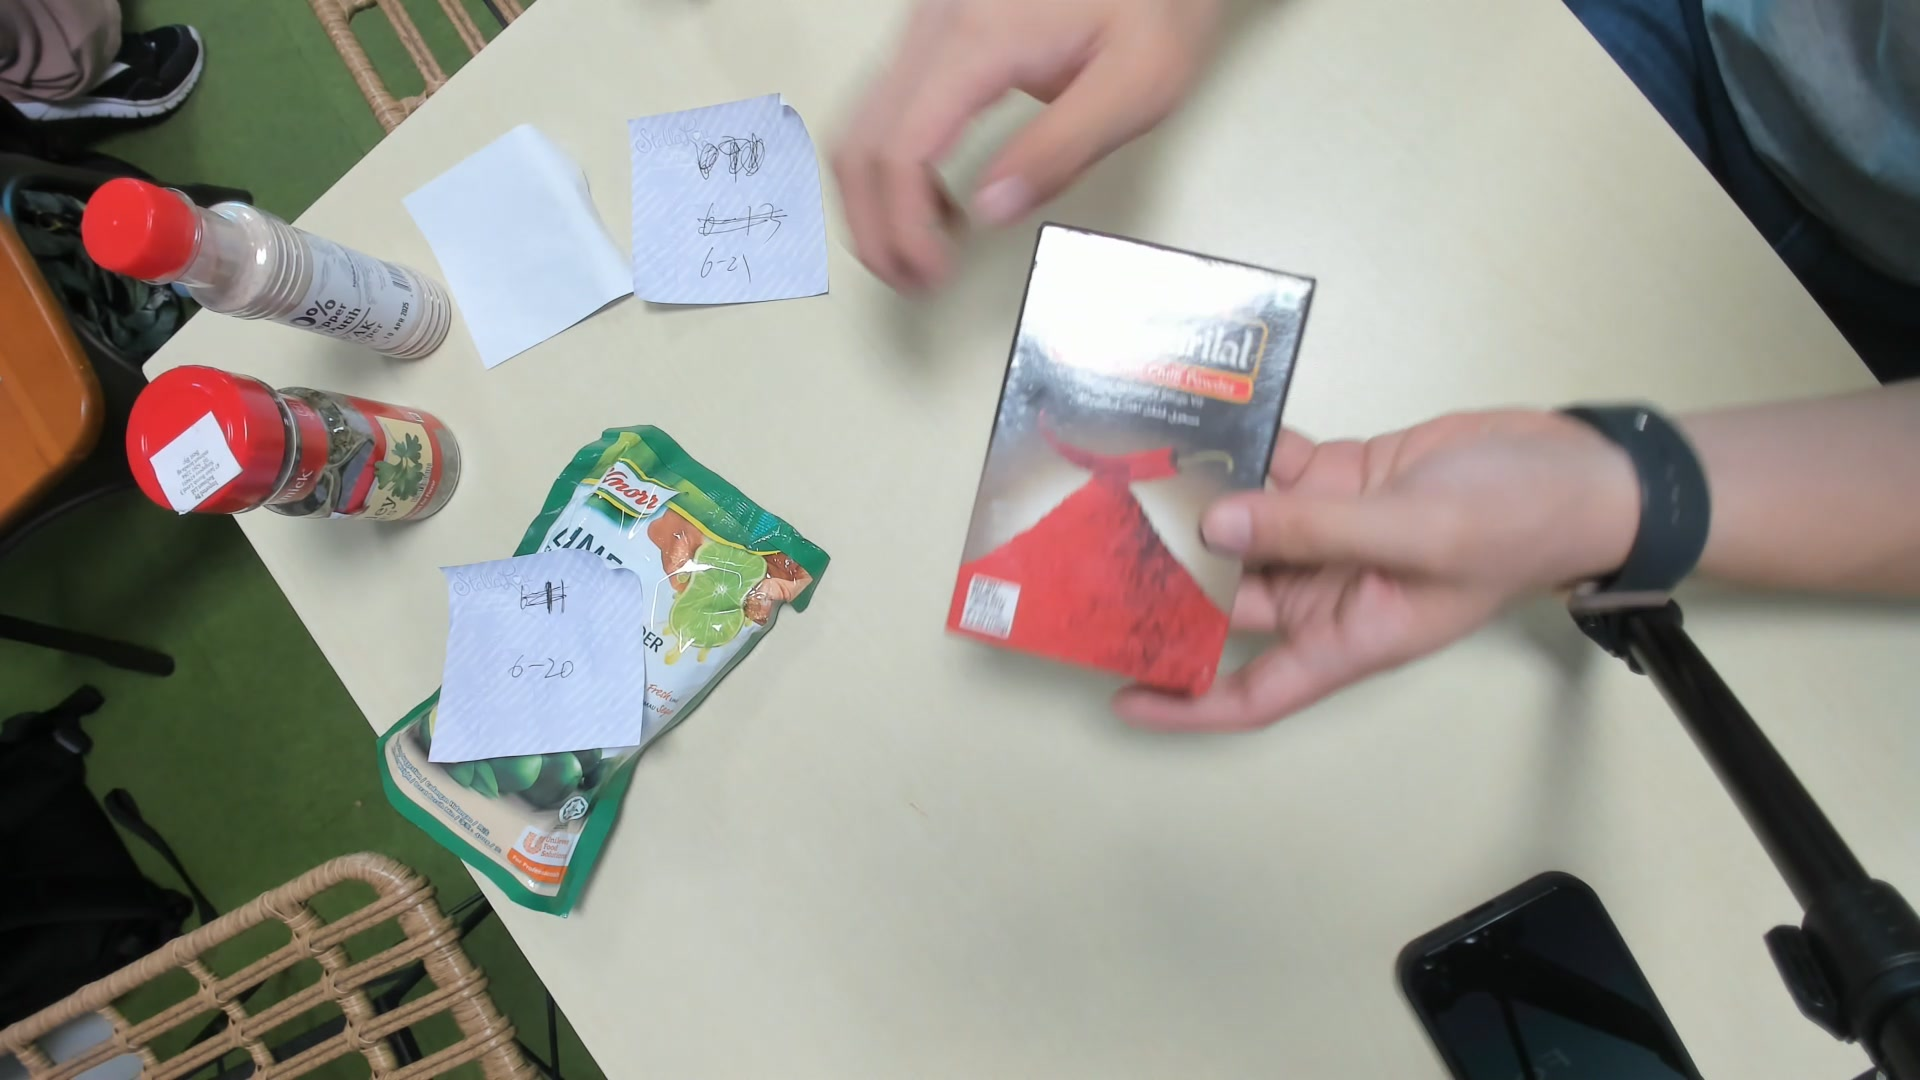HerbsSpicesPepper_100-199g_NonHalal_NonHealthy: (953, 222, 1309, 707)
